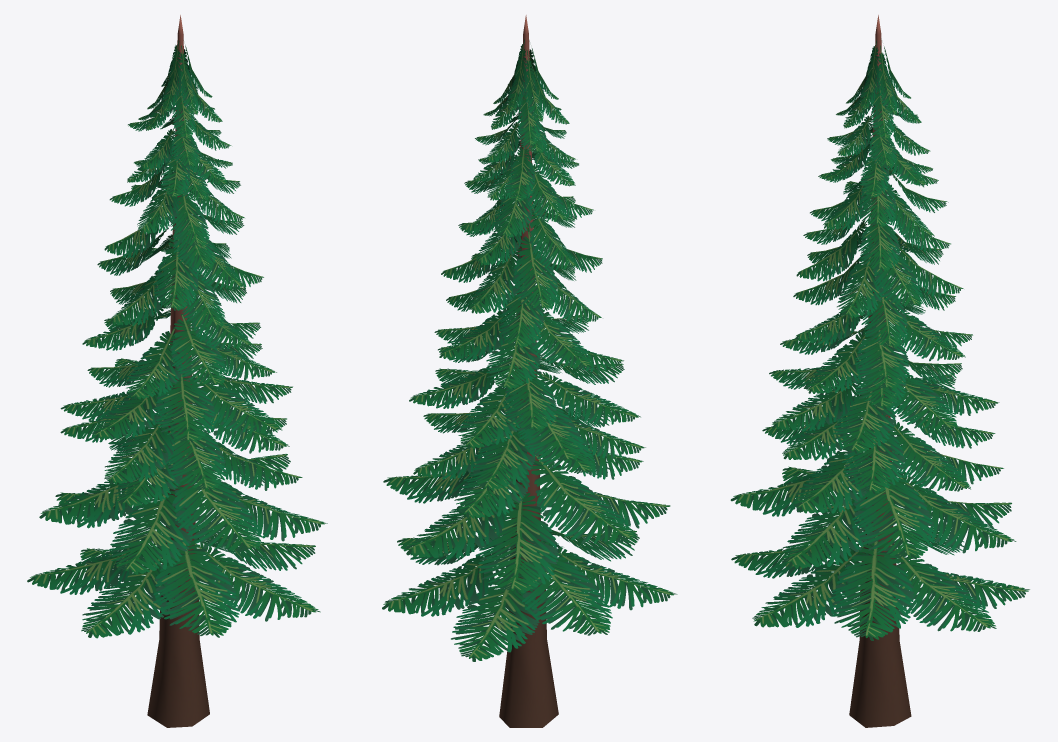
The model's file is Pine_Tree_2D.fbx.
3 renders of one model, left to right at view 1: azimuth 30°, elevation 25°; view 2: azimuth 150°, elevation 25°; view 3: azimuth 270°, elevation 25°, orthographic.
Visible parts, largest first — view 1: Pine_Tree_2D; view 2: Pine_Tree_2D; view 3: Pine_Tree_2D.
Part boxes in pixels (x1,y1,x2,y2): Pine_Tree_2D: [27, 15, 327, 727]; Pine_Tree_2D: [382, 15, 677, 727]; Pine_Tree_2D: [730, 15, 1029, 727].
Size of the model in its own units: 486 by 1167 by 491.
